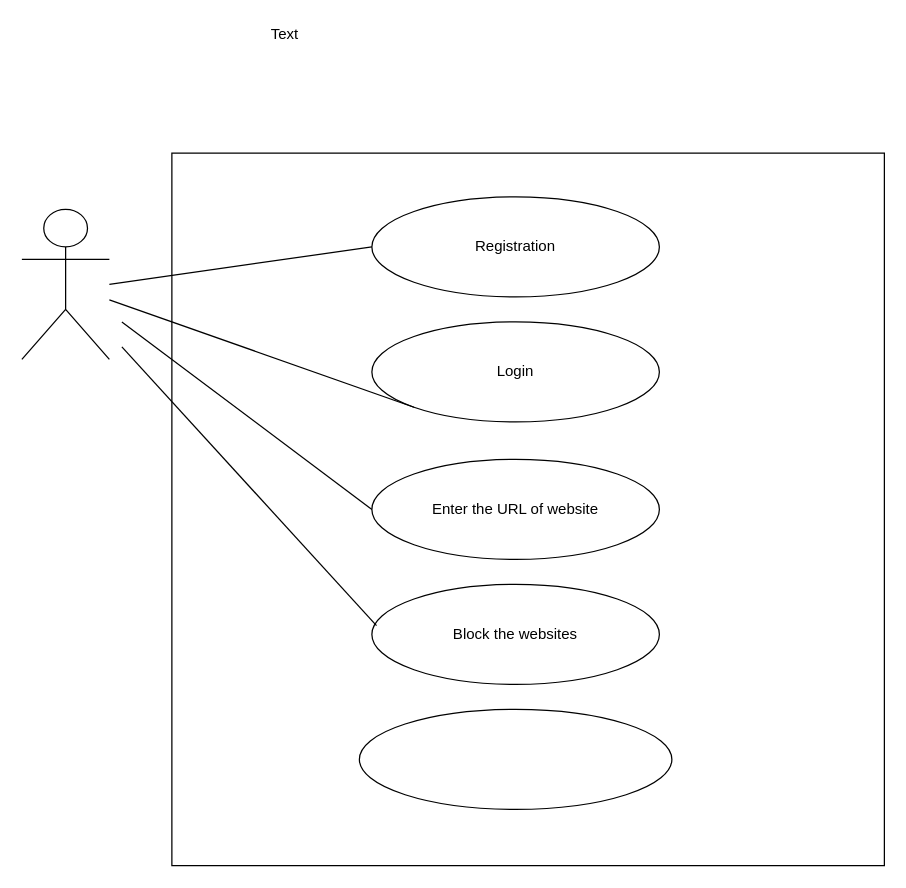
This 906x888 diagram has some shape labels left out. The centre of each missing label's shape, as x and y in pixels:
Log Out: the point at 515,758
User: the point at 65,283
